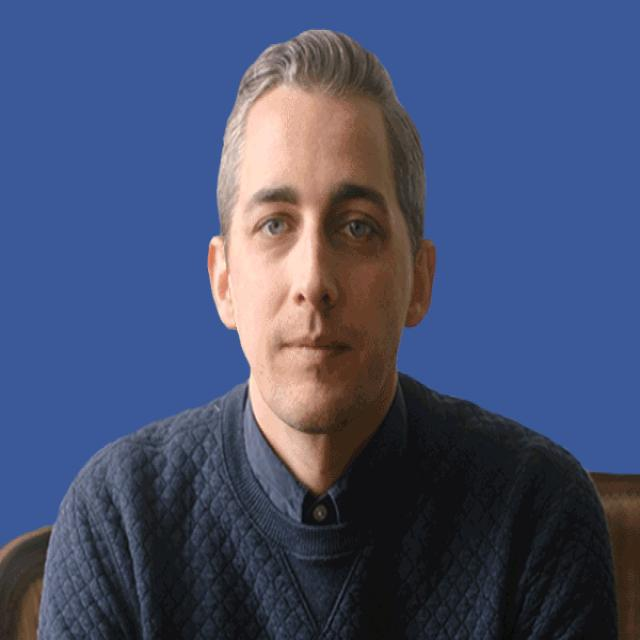mobile_phonerotation: (28, 30, 625, 640)
